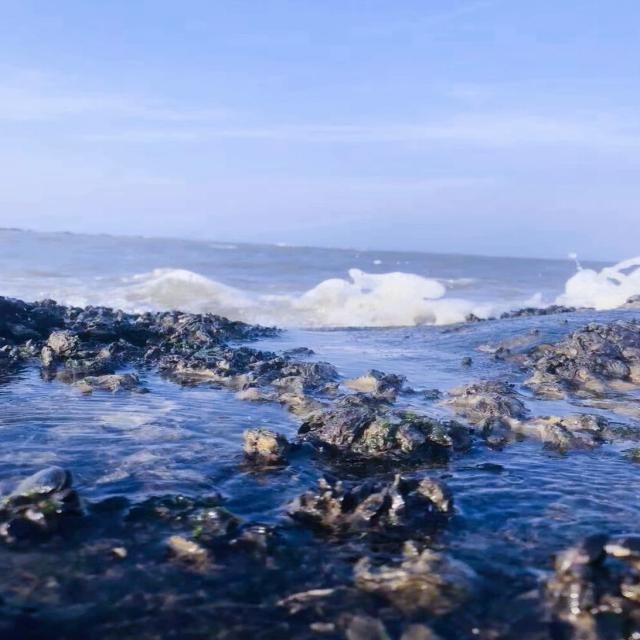reef: (400, 308, 640, 462), (0, 286, 262, 396)
